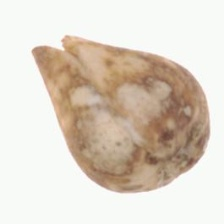L1: (153, 136, 196, 182), (30, 33, 80, 64)
L2: (31, 35, 211, 194)
